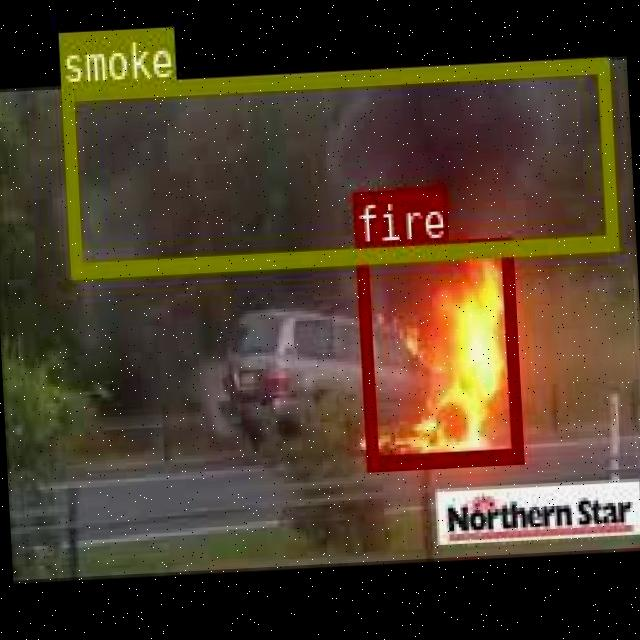fire: (354, 234, 520, 466)
smoke: (60, 57, 616, 274)
